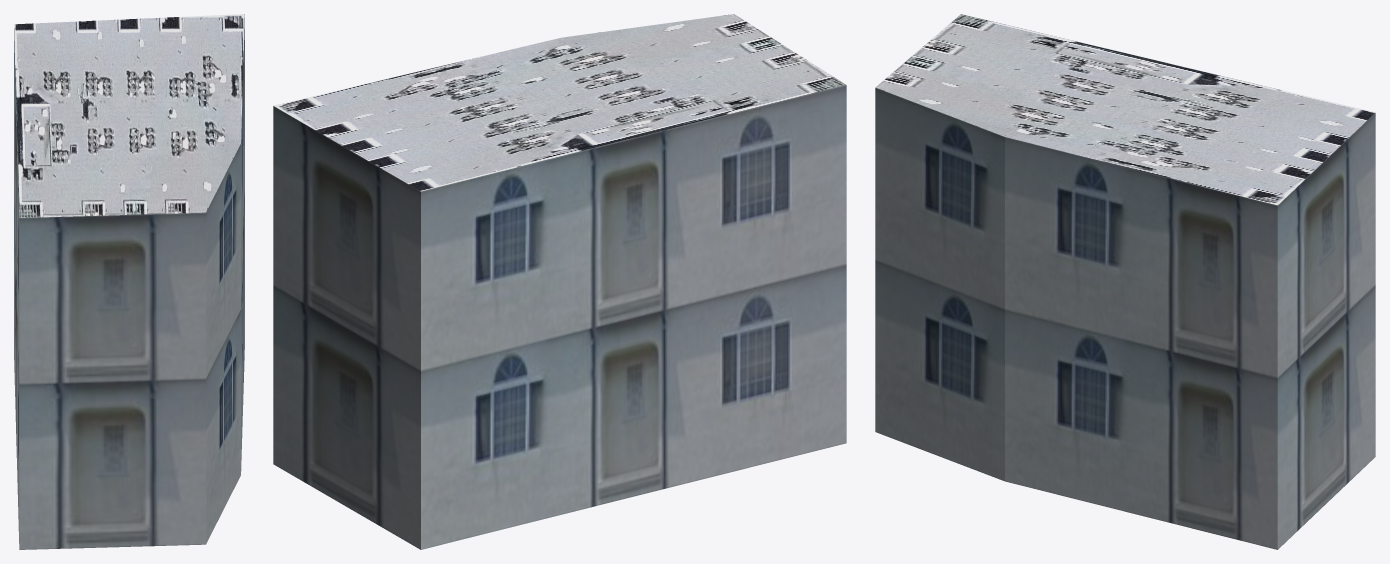
Rendered from ResTex__4566.fbx.
3 views of the same model, side by side, from view 1: azimuth 30°, elevation 25°; view 2: azimuth 150°, elevation 25°; view 3: azimuth 270°, elevation 25° (orthographic). The views are drawn at different scales.
Visible parts, largest first — view 1: CityEngineMaterial_17_m, CityEngineMaterial_m; view 2: CityEngineMaterial_17_m, CityEngineMaterial_m; view 3: CityEngineMaterial_17_m, CityEngineMaterial_m.
Part boxes in pixels (<box>): CityEngineMaterial_17_m: <box>14,18,244,549</box>; CityEngineMaterial_m: <box>14,14,244,217</box>; CityEngineMaterial_17_m: <box>273,85,846,549</box>; CityEngineMaterial_m: <box>274,14,846,191</box>; CityEngineMaterial_17_m: <box>875,87,1375,549</box>; CityEngineMaterial_m: <box>876,14,1375,205</box>.
Bounding box in the file's own units: 7.15 × 6 × 7.9.
Materials: 2 (2 with a texture image).
